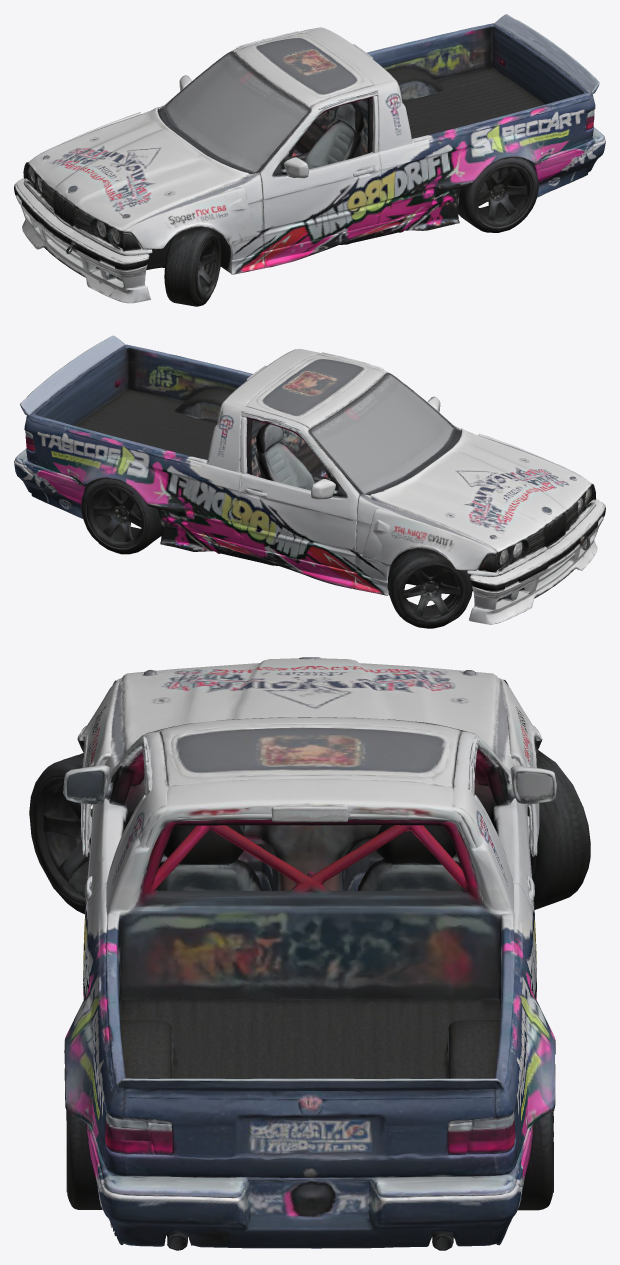
File: vinidrift3d.glb
3 renders of one model, top to bottom at view 1: azimuth 30°, elevation 25°; view 2: azimuth 150°, elevation 25°; view 3: azimuth 270°, elevation 25°, orthographic. The views are drawn at different scales.
Size of the model in its own units: 0.98 by 0.2948 by 0.4652.
Materials: 1 (1 with a texture image).
